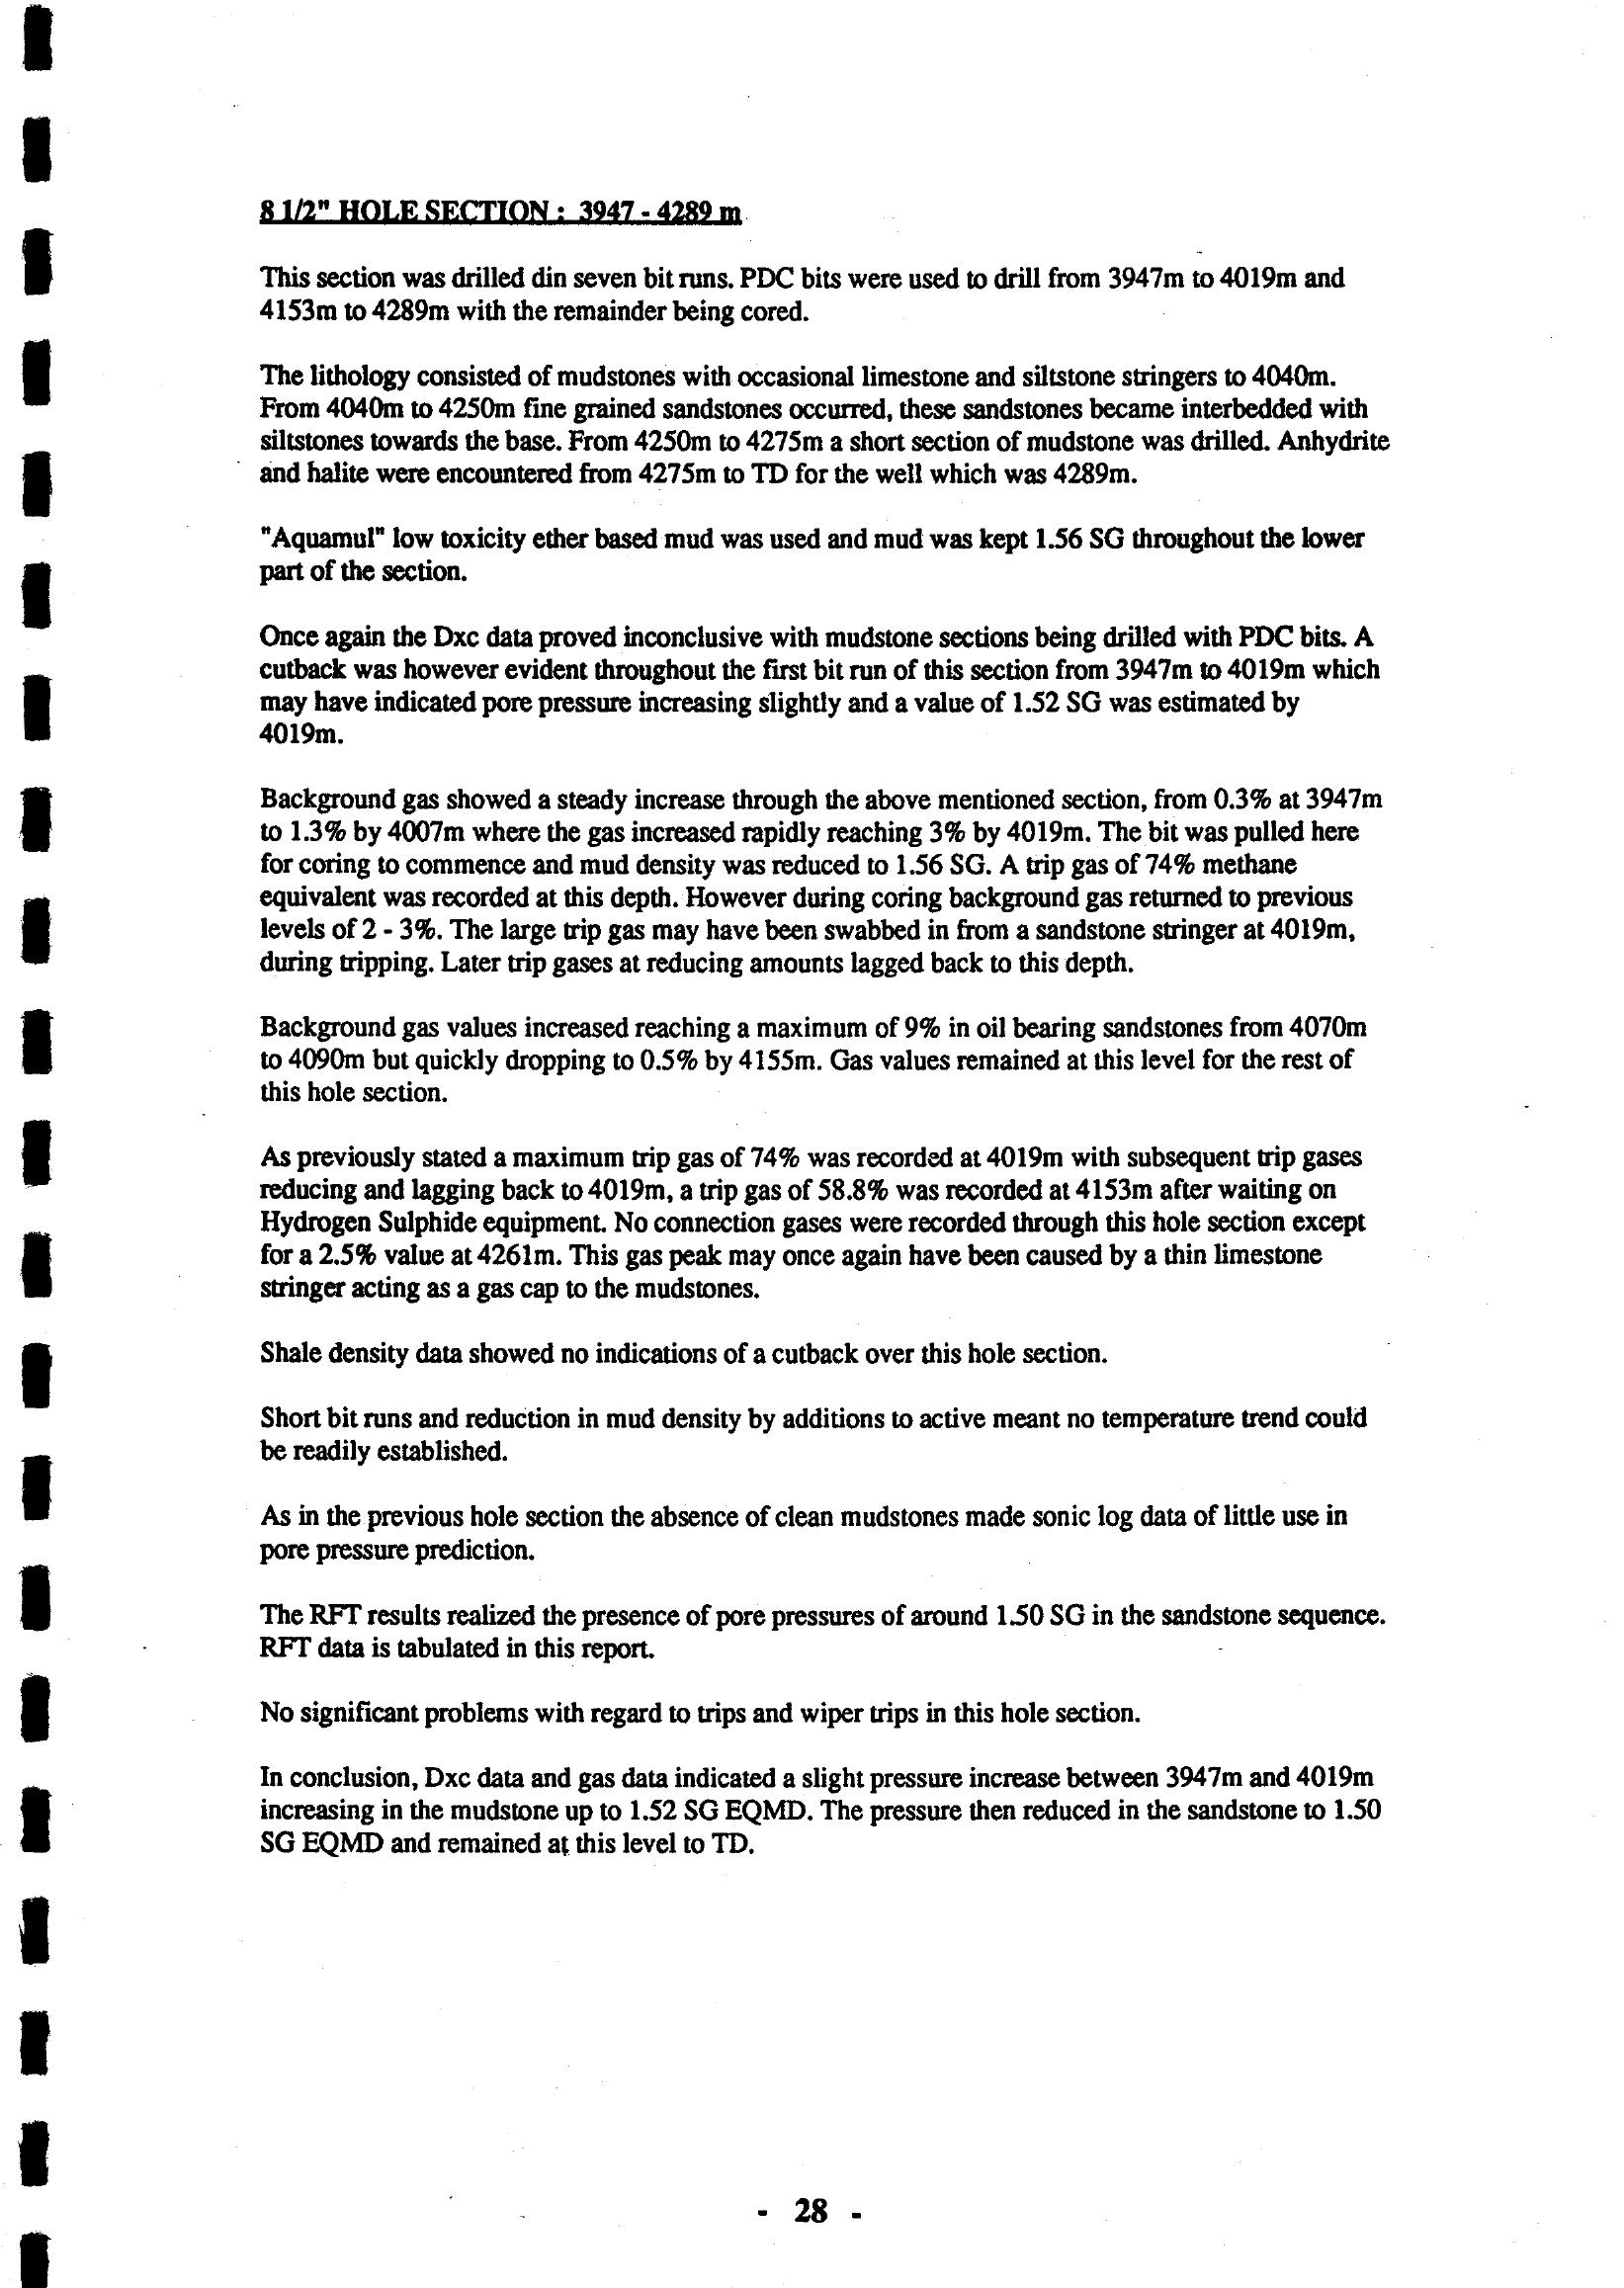text: (213, 170, 1438, 1910)
